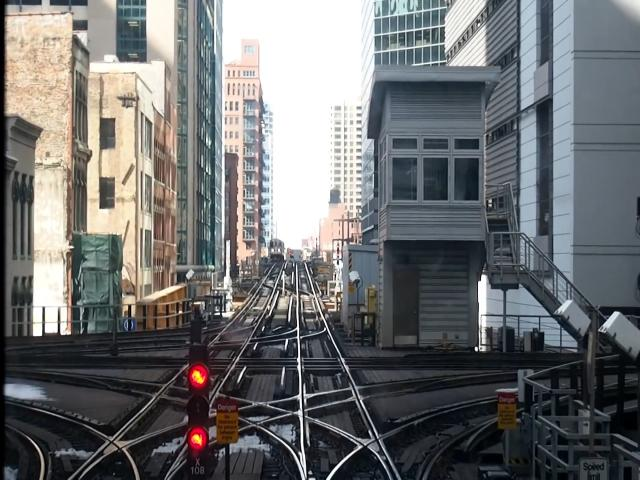signal light: (187, 343, 215, 480)
